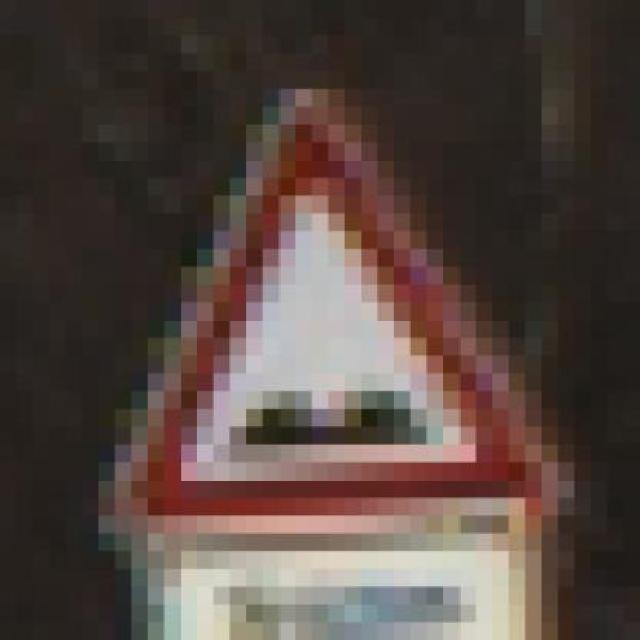Uneven Road: (82, 71, 575, 534)
